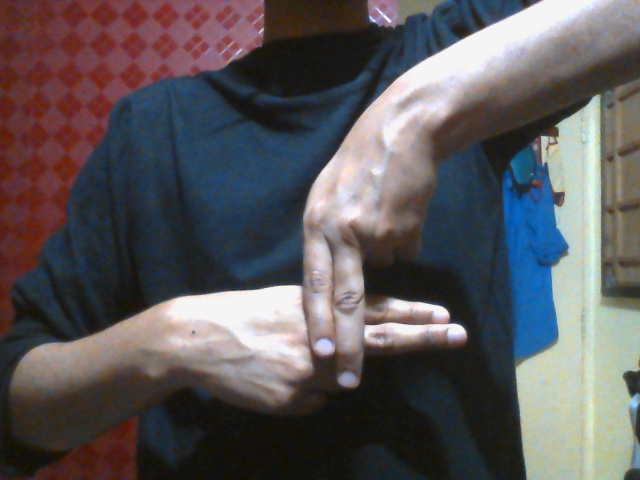F: (187, 123, 468, 419)
